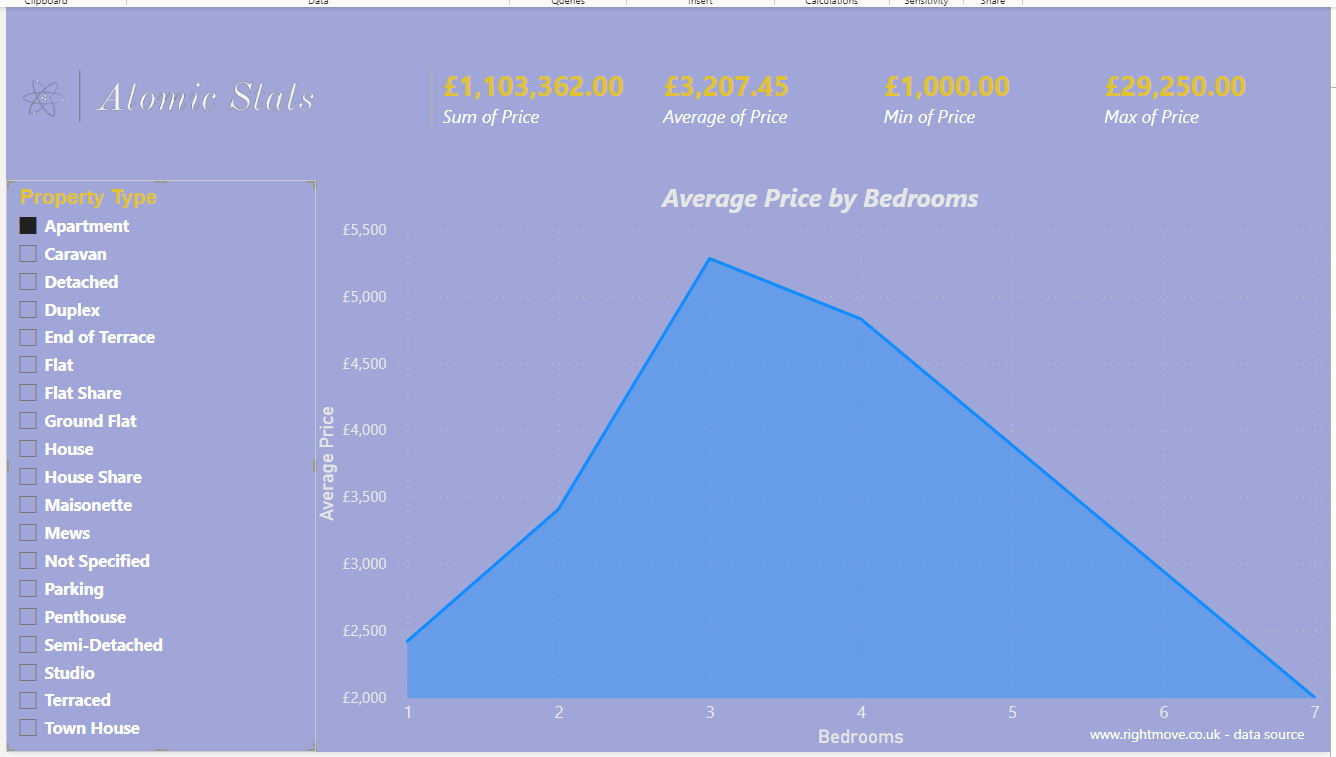

The dashboard page shown, as its layout file describes it:
{"tool":"powerbi","page":{"name":"Rightmove","canvas":[1280,720],"ordinal":0},"visuals":[{"type":"multiRowCard","fields":{"Values":["Sum(rightmove.Price)","Avg(rightmove.Price)","Min(rightmove.Price)","Max(rightmove.Price)"]},"box":[406.3,52.5,873.7,84.6],"z":0},{"type":"stackedAreaChart","title":"Average Price by Bedrooms","fields":{"Category":["rightmove.Bedrooms"],"Y":["Avg(rightmove.Price)"]},"box":[293.5,167.2,986.5,553],"z":2},{"type":"slicer","fields":{"Values":["rightmove.Type"]},"box":[0,167,300,553],"z":3},{"type":"image","box":[0,0,307.1,167.2],"z":5},{"type":"textbox","box":[1022.8,688.3,257.2,31.9],"z":6}]}

Visuals, with their boxes on the page's 1280x720 design canvas (x1, y1, x2, y2). These are canvas units, not pixel positions in the 1336x757 screenshot, which may show the page scaled, cropped or inside an application window:
multiRowCard - Sum(rightmove.Price) x Avg(rightmove.Price): rect(406, 52, 1280, 137)
"Average Price by Bedrooms" stackedAreaChart: rect(294, 167, 1280, 720)
slicer - rightmove.Type: rect(0, 167, 300, 720)
image: rect(0, 0, 307, 167)
textbox: rect(1023, 688, 1280, 720)
